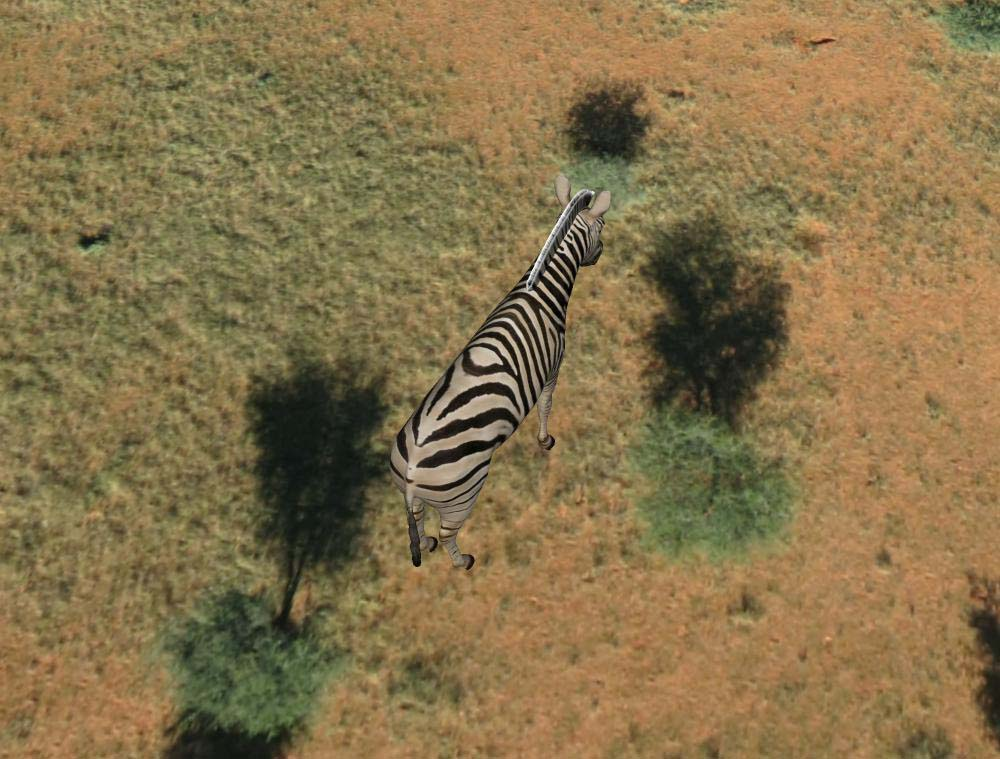zebra: (386, 172, 612, 577)
